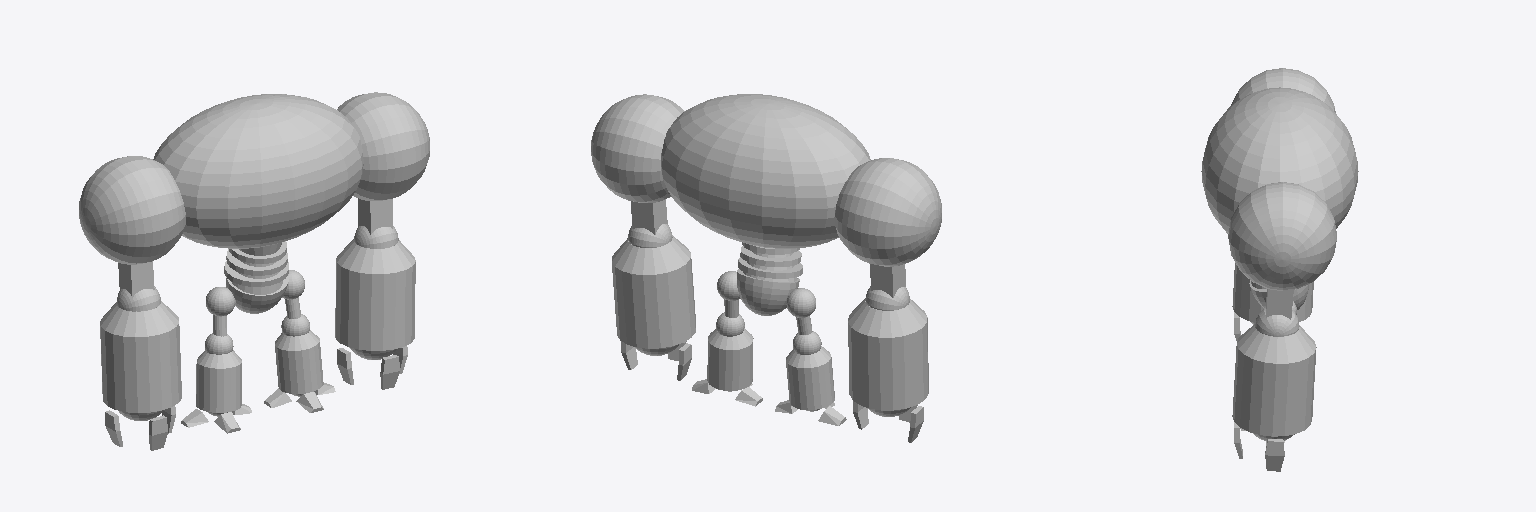
The model's file is robot blocked.obj.
The picture shows the model from 3 angles: view 1: azimuth 30°, elevation 25°; view 2: azimuth 150°, elevation 25°; view 3: azimuth 270°, elevation 25°; orthographic projection.
Parts seen in each view (by area): view 1: pSphere1, polySurface9 polySurface6, pCylinder2, polySurface6 polySurface16, pSphere3, pSphere15, pCylinder11 polySurface17, pSphere9, pCube2, polySurface6 polySurface10, polySurface6 polySurface11, pSphere4 (+6 smaller); view 2: pSphere1, polySurface9 polySurface6, pCylinder2, polySurface6 polySurface16, pSphere3, pSphere15, pCylinder11 polySurface17, pSphere9, pCube2, polySurface6 polySurface10, polySurface6 polySurface11, pSphere4 (+3 smaller); view 3: pSphere1, pSphere3, pCylinder2, polySurface9 polySurface6, polySurface6 polySurface16, pSphere4, pCube2, pCube5.
Part boxes in pixels (x1,y1,x2,y2): pSphere1: (153,94,363,248); polySurface9 polySurface6: (79,156,185,264); pCylinder2: (335,239,415,350); polySurface6 polySurface16: (100,301,181,412); pSphere3: (337,92,429,200); pSphere15: (181,287,251,433); pCylinder11 polySurface17: (275,330,323,393); pSphere9: (226,276,288,313); pCube2: (358,198,392,234); polySurface6 polySurface10: (118,261,154,297); polySurface6 polySurface11: (117,286,160,311); pSphere4: (354,226,398,248); pSphere1: (661,94,870,248); polySurface9 polySurface6: (835,158,941,266); pCylinder2: (612,235,695,348); polySurface6 polySurface16: (848,298,928,410); pSphere3: (591,94,684,202); pSphere15: (775,288,846,425); pCylinder11 polySurface17: (707,328,753,390); pSphere9: (737,269,799,315); pCube2: (631,199,667,234); polySurface6 polySurface10: (870,264,905,297); polySurface6 polySurface11: (866,286,909,310); pSphere4: (628,224,672,247); pSphere1: (1201,87,1358,233); pSphere3: (1228,182,1336,290); pCylinder2: (1232,323,1316,436); polySurface9 polySurface6: (1231,68,1335,112); polySurface6 polySurface16: (1232,263,1313,322); pSphere4: (1255,307,1299,336); pCube2: (1266,289,1293,319); pCube5: (1265,439,1284,471).
Bounding box in the file's own units: 4.48 × 3.87 × 1.81.